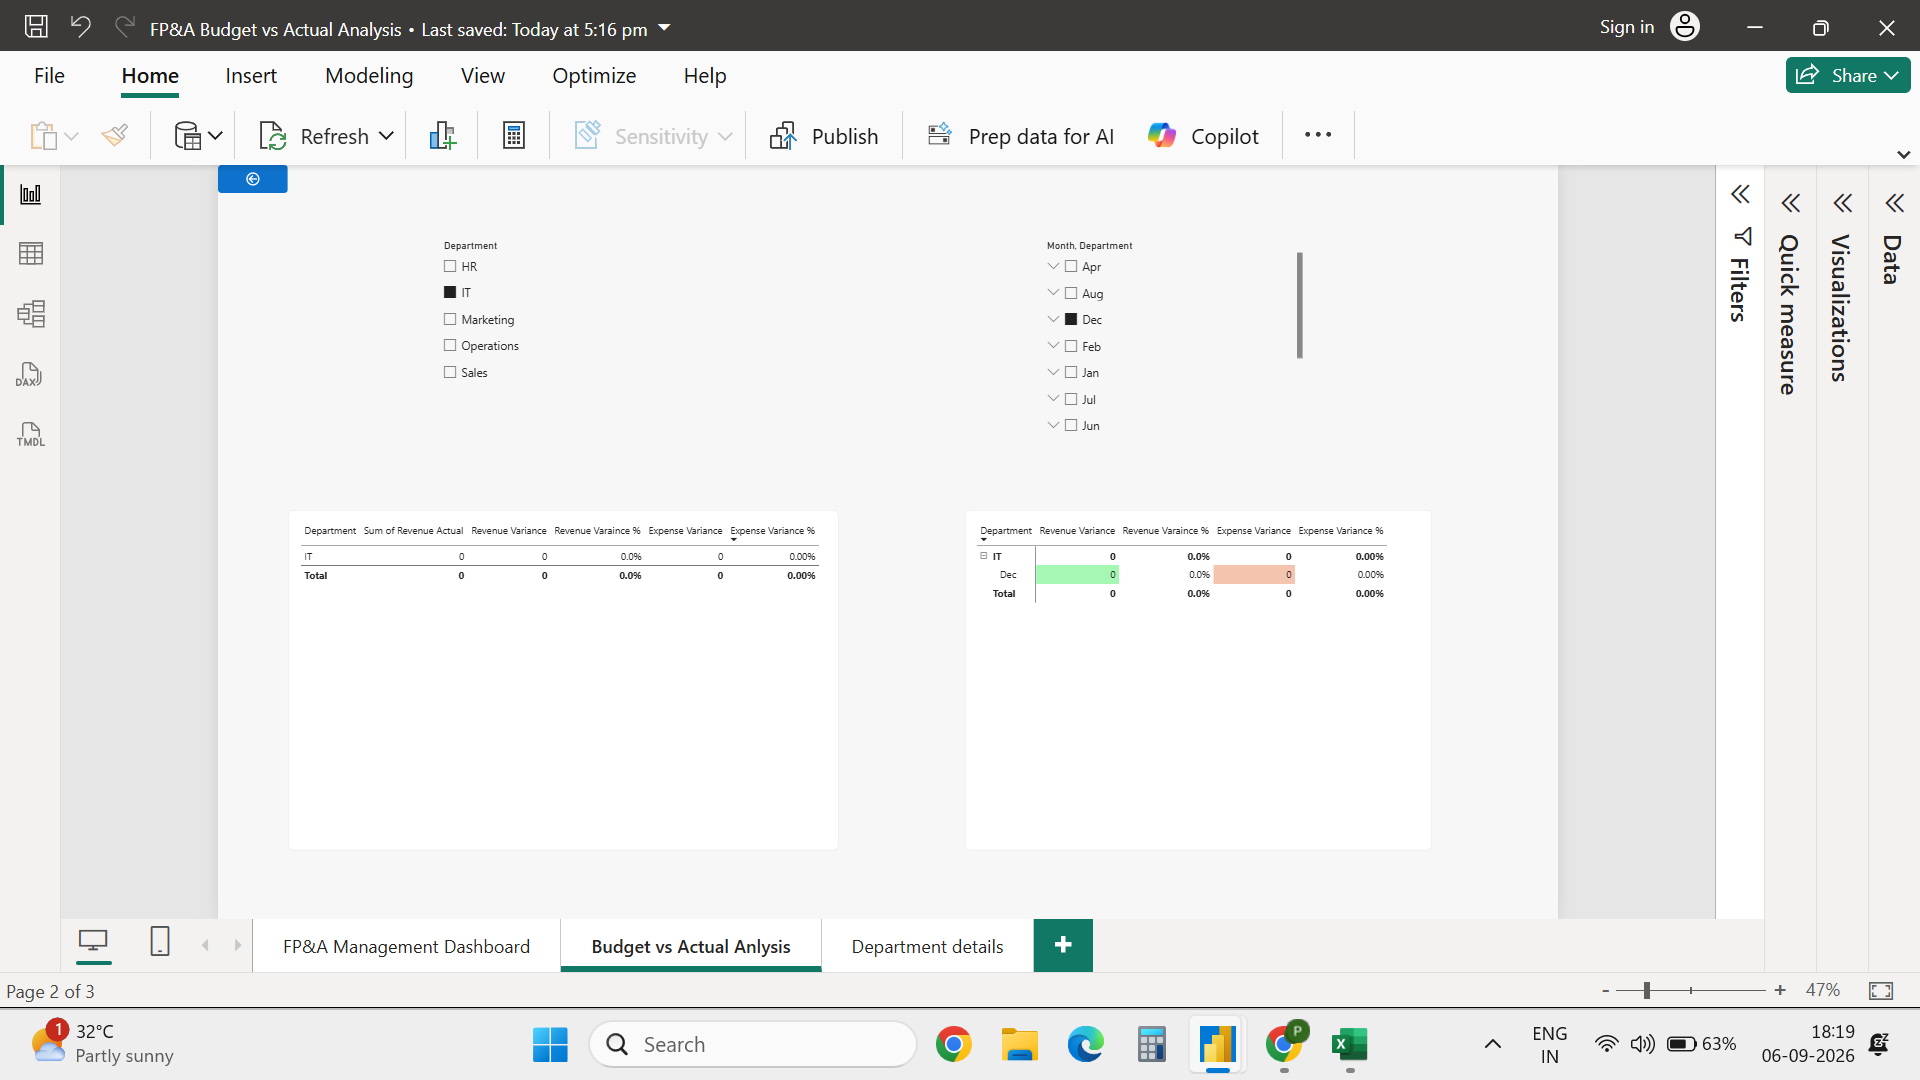

What the dashboard file says about the page in this screenshot:
{"tool":"powerbi","page":{"name":"Budget vs Actual Anlysis","canvas":[1920,1080],"ordinal":1},"visuals":[{"type":"slicer","fields":{"Values":["RawDataTable.Department"]},"box":[315.8,107.4,355.5,280.8],"z":0},{"type":"tableEx","fields":{"Values":["RawDataTable.Department","Sum(RawDataTable.Revenue Actual)","RawDataTable.Revenue Variance","RawDataTable.Revenue Varaince %","RawDataTable.Expense Variance","RawDataTable.Expense Variance %"]},"box":[101,494.2,788,487.6],"z":1000},{"type":"slicer","fields":{"Values":["RawDataTable.Month","RawDataTable.Department"]},"box":[1179.6,107.4,374.2,280.6],"z":2000},{"type":"pivotTable","fields":{"Rows":["RawDataTable.Department","RawDataTable.Month"],"Values":["RawDataTable.Revenue Variance","RawDataTable.Revenue Varaince %","RawDataTable.Expense Variance","RawDataTable.Expense Variance %"]},"box":[1070,494.2,669,487.6],"z":3000},{"type":"textbox","box":[464.9,0,1000.6,90.7],"z":4000},{"type":"actionButton","box":[0,0,100,40],"z":4001}]}

Visuals, with their boxes on the page's 1920x1080 design canvas (x1, y1, x2, y2). These are canvas units, not pixel positions in the 1920x1080 screenshot, which may show the page scaled, cropped or inside an application window:
slicer - RawDataTable.Department: select_region(316, 107, 671, 388)
tableEx - RawDataTable.Department x Sum(RawDataTable.Revenue Actual): select_region(101, 494, 889, 982)
slicer - RawDataTable.Month x RawDataTable.Department: select_region(1180, 107, 1554, 388)
pivotTable - RawDataTable.Department x RawDataTable.Month: select_region(1070, 494, 1739, 982)
textbox: select_region(465, 0, 1466, 91)
actionButton: select_region(0, 0, 100, 40)
